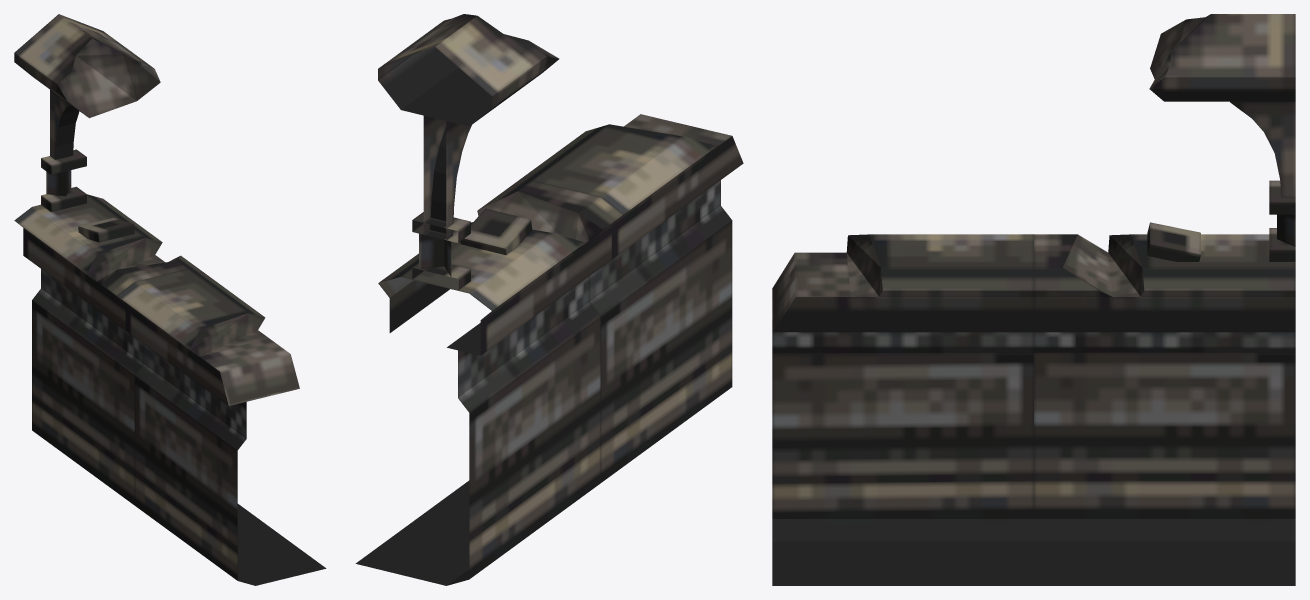
Rendered from EnvMdrMD_Castle_A_Fence_C_Right.FBX.
3 views of the same model, side by side, from view 1: azimuth 30°, elevation 25°; view 2: azimuth 150°, elevation 25°; view 3: azimuth 270°, elevation 25° (orthographic). The views are drawn at different scales.
Parts seen in each view (by area): view 1: EnvMdrMD_Castle_A_Fence_C_Right; view 2: EnvMdrMD_Castle_A_Fence_C_Right; view 3: EnvMdrMD_Castle_A_Fence_C_Right.
Boxes of the visible parts, x1,y1,x2,y2 form: EnvMdrMD_Castle_A_Fence_C_Right: (14,14,326,585); EnvMdrMD_Castle_A_Fence_C_Right: (355,14,743,585); EnvMdrMD_Castle_A_Fence_C_Right: (772,14,1295,585).
Bounding box in the file's own units: 60 × 225 × 200.
1 material, 1 textured.
